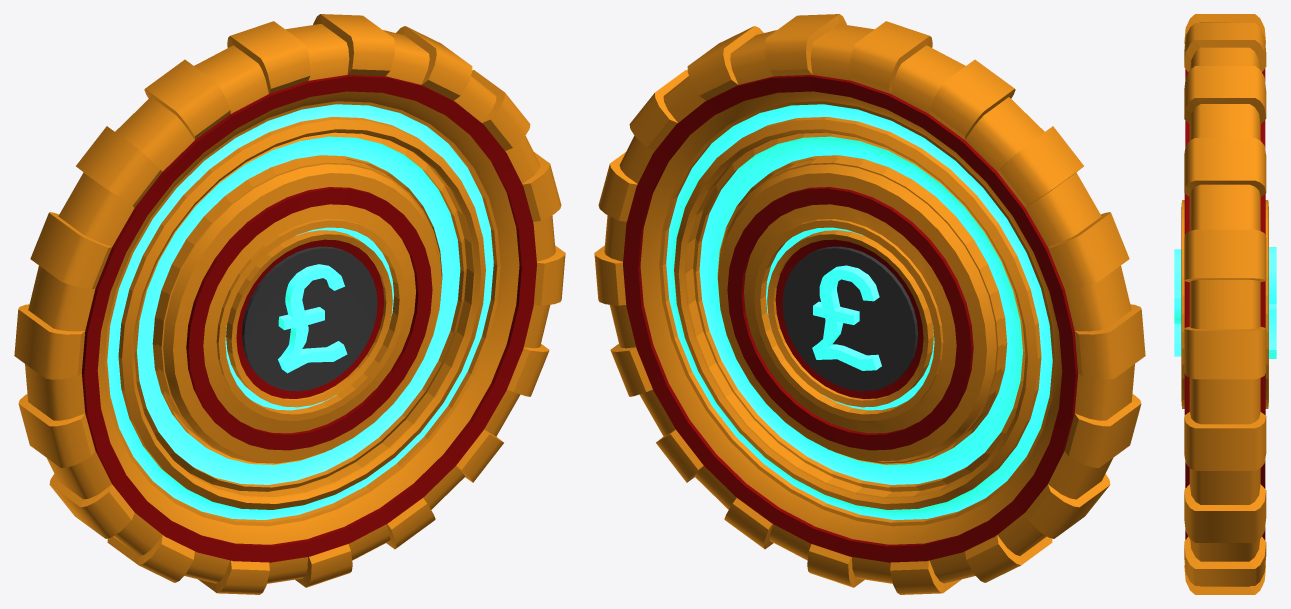
File: coin 1.fbx
3 views of the same model, side by side, from view 1: azimuth 30°, elevation 25°; view 2: azimuth 150°, elevation 25°; view 3: azimuth 270°, elevation 25° (orthographic). The views are drawn at different scales.
Visible parts, largest first — view 1: Cylinder003, Text005; view 2: Cylinder003, Text006; view 3: Cylinder003, Text006, Text005.
Boxes of the visible parts, <box> form: Cylinder003: <box>14,14,565,594</box>; Text005: <box>278,264,347,373</box>; Cylinder003: <box>594,14,1145,594</box>; Text006: <box>812,265,881,370</box>; Cylinder003: <box>1181,14,1268,594</box>; Text006: <box>1269,247,1276,358</box>; Text005: <box>1174,249,1181,356</box>.
Bounding box in the file's own units: 49.27 × 49.26 × 8.63.
